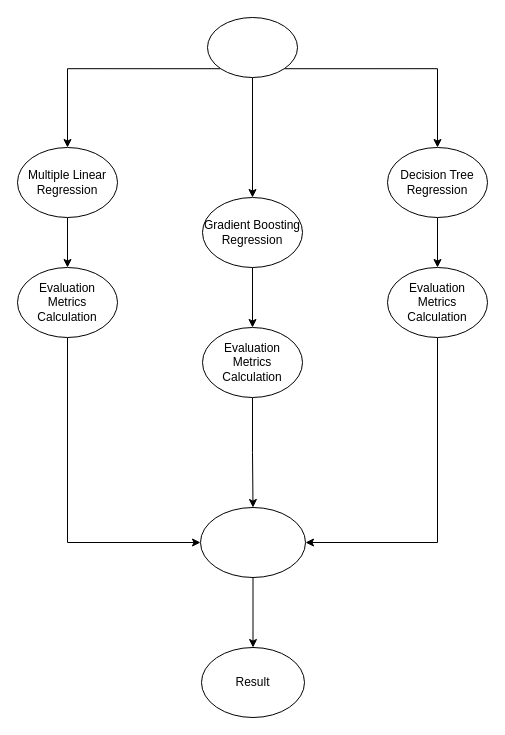
Some shapes in this 505 by 735 pixel diagram are drawn without their labels. Here are the shapes that lost their labels. From the top down, the centre of each, then its label:
At point (252, 47): "Pre-Processed Data".
At point (253, 542): "Best Model".
